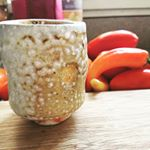cups: (1, 18, 89, 128)
